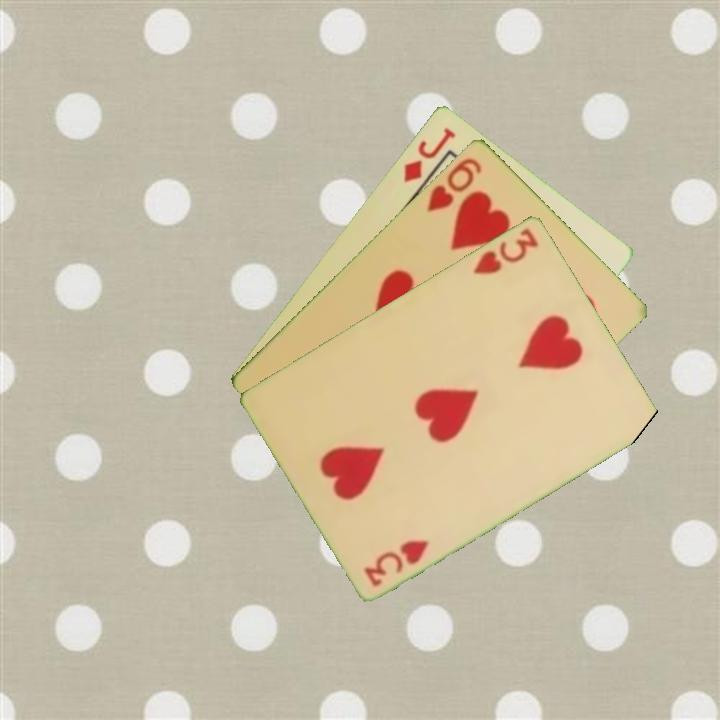3h: (361, 535, 433, 589), (469, 224, 542, 277)
6h: (422, 154, 485, 215)
Jd: (399, 123, 459, 185)
